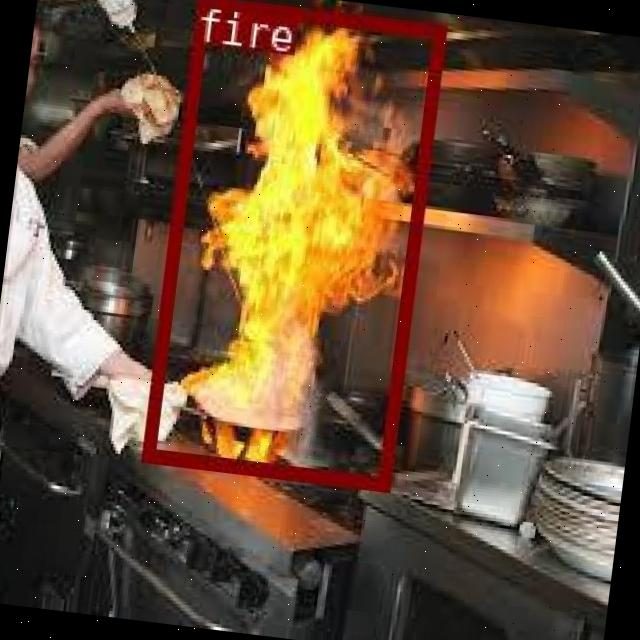fire: (140, 0, 445, 488)
